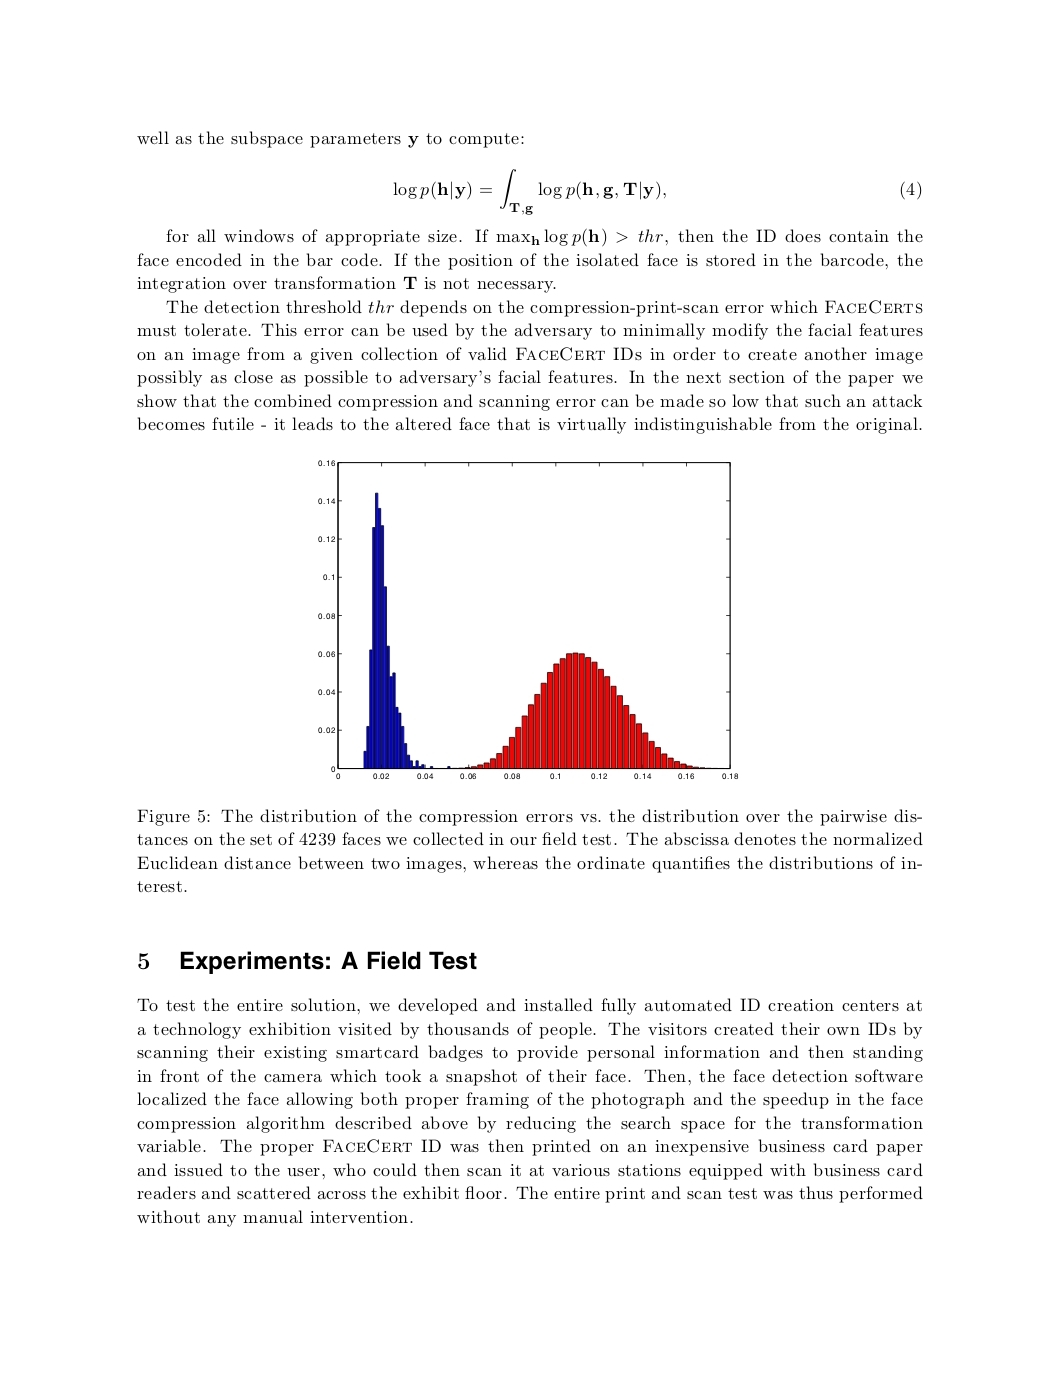figure: (318, 459, 737, 780)
formula: (393, 168, 921, 215)
